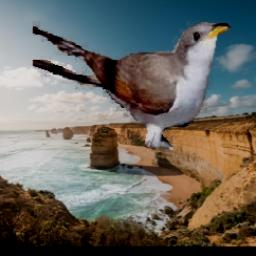Cuckoo: (34, 22, 232, 151)
